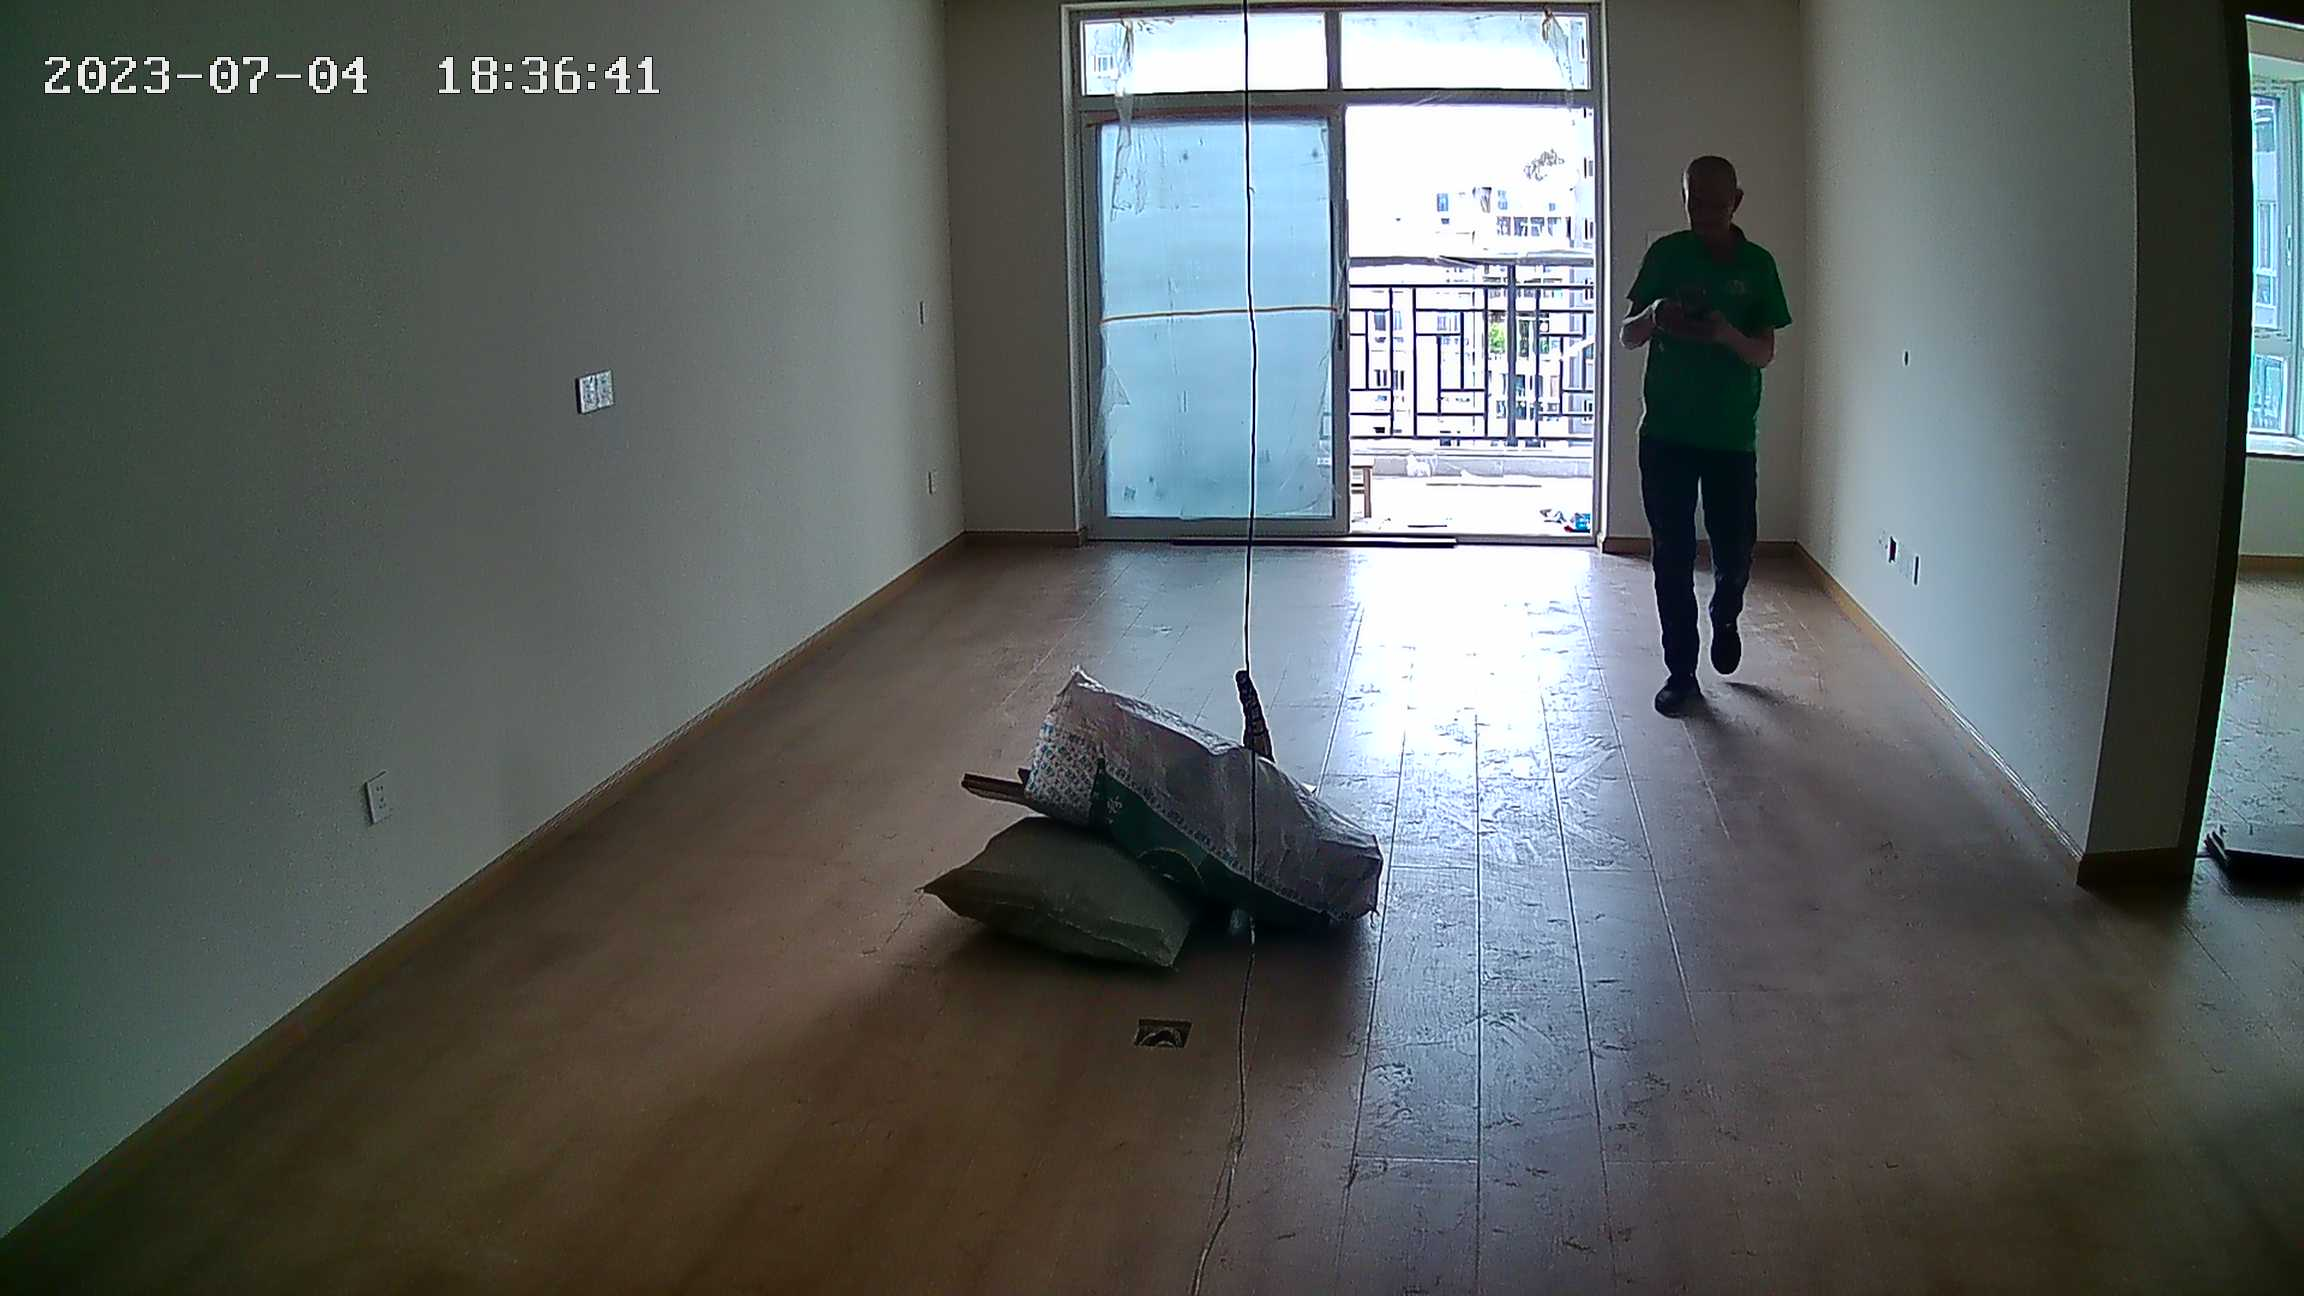people: (1616, 158, 1794, 723)
window: (1090, 18, 1586, 520), (2250, 79, 2304, 438)
